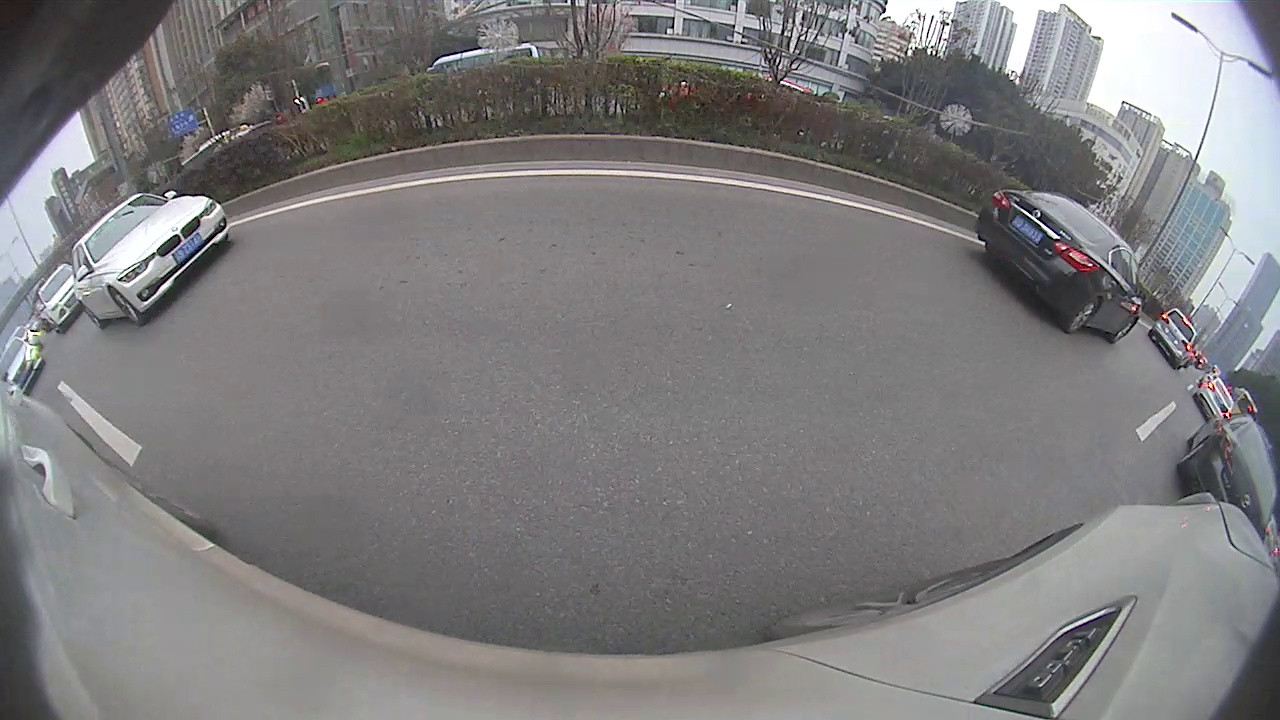car: (974, 185, 1148, 343), (68, 188, 233, 331), (1174, 403, 1278, 543), (1149, 307, 1203, 373), (34, 263, 82, 335), (1191, 376, 1238, 425)
front: (108, 288, 146, 330), (1109, 316, 1138, 345)
rear: (1065, 299, 1098, 334)
